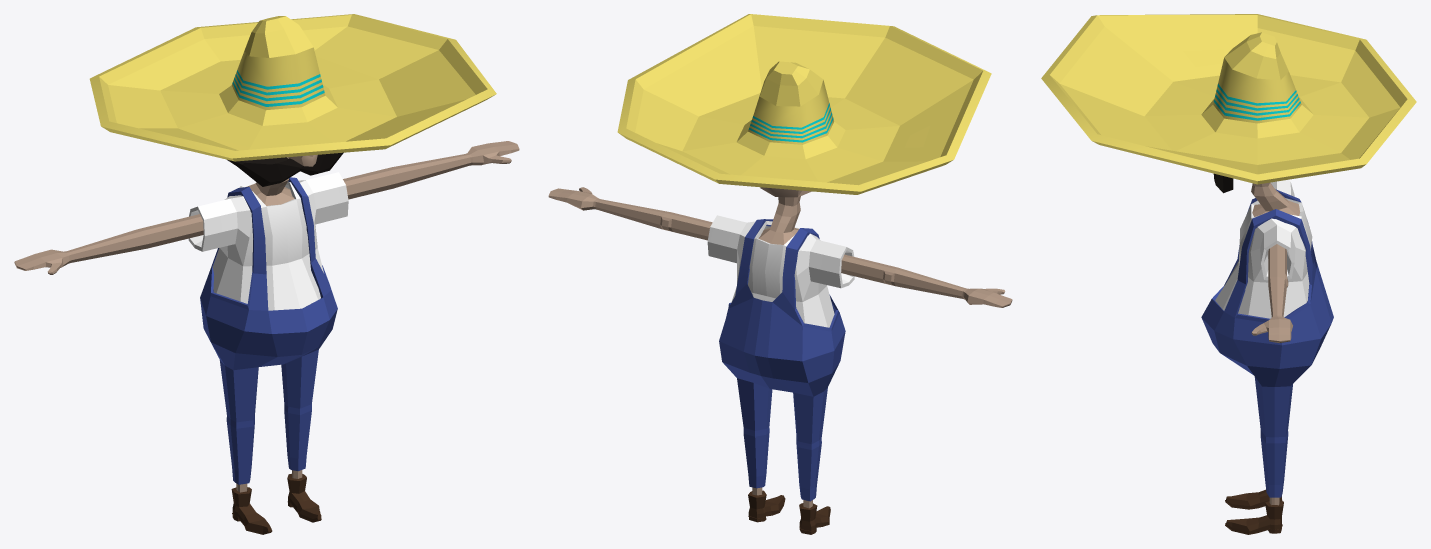
Rendered from NotFinalSnowman.fbx.
The picture shows the model from 3 angles, left to right: view 1: azimuth 30°, elevation 25°; view 2: azimuth 150°, elevation 25°; view 3: azimuth 270°, elevation 25°; orthographic projection. The views are drawn at different scales.
Visible parts, largest first — view 1: Object_52, Object_64, Object_50, Object_61, Object_62, Object_60, Object_53, Object_59; view 2: Object_52, Object_64, Object_50, Object_61, Object_59, Object_62, Object_53; view 3: Object_52, Object_64, Object_50, Object_61, Object_62, Object_53, Object_59.
Boxes of the visible parts, <box> form: Object_52: <box>89,14,496,161</box>; Object_64: <box>200,177,337,484</box>; Object_50: <box>188,172,348,310</box>; Object_61: <box>14,141,519,492</box>; Object_62: <box>231,473,321,534</box>; Object_60: <box>227,152,343,186</box>; Object_53: <box>232,70,324,106</box>; Object_59: <box>246,155,317,205</box>; Object_52: <box>617,14,991,194</box>; Object_64: <box>719,219,845,501</box>; Object_50: <box>707,215,854,327</box>; Object_61: <box>548,187,1012,508</box>; Object_59: <box>758,187,811,244</box>; Object_62: <box>748,490,830,534</box>; Object_53: <box>748,103,833,142</box>; Object_52: <box>1041,14,1416,184</box>; Object_64: <box>1201,189,1333,497</box>; Object_50: <box>1215,180,1312,318</box>; Object_61: <box>1251,244,1292,505</box>; Object_62: <box>1225,489,1283,534</box>; Object_53: <box>1213,84,1300,120</box>; Object_59: <box>1251,182,1300,216</box>.
Bounding box in the file's own units: 25620 × 24407 × 17262.
